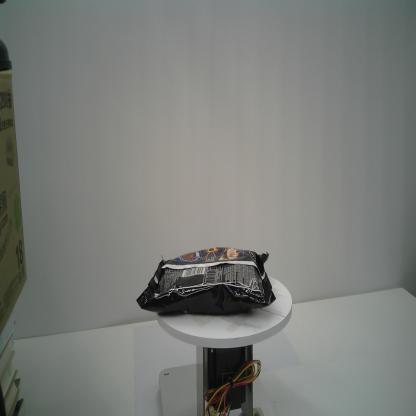Instant Noodles: (135, 246, 277, 316)
